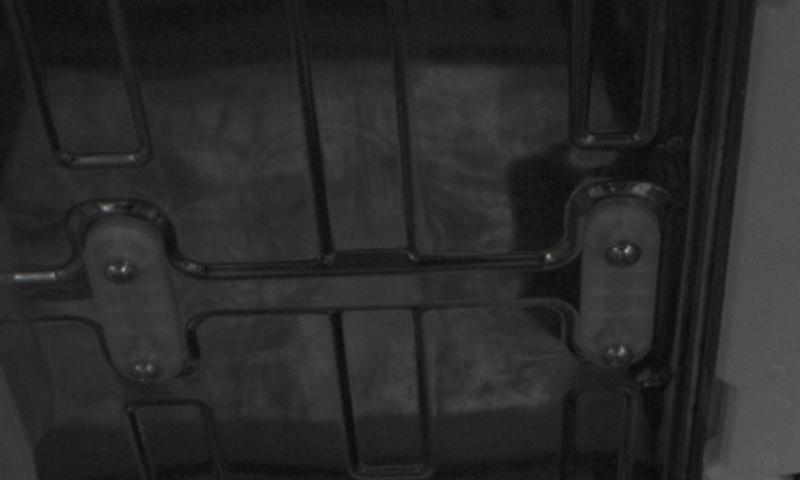vida-ok: (600, 235, 643, 280), (101, 249, 141, 294), (123, 352, 165, 392), (596, 337, 636, 375)
